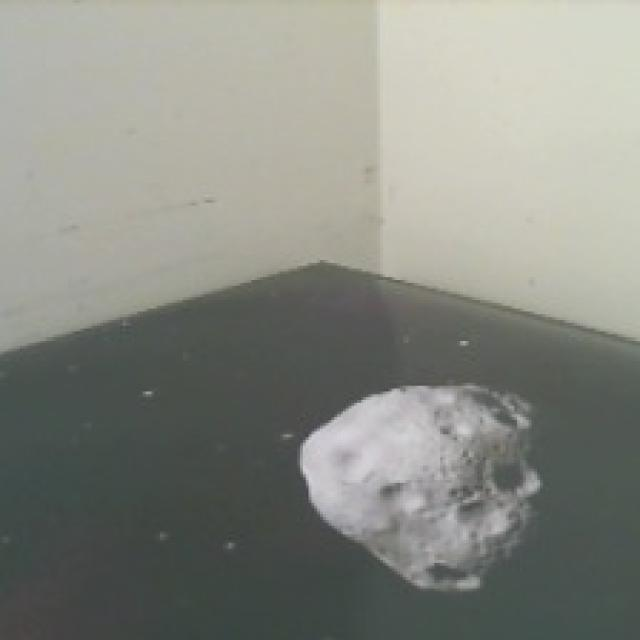Asteroid: (298, 381, 543, 598)
